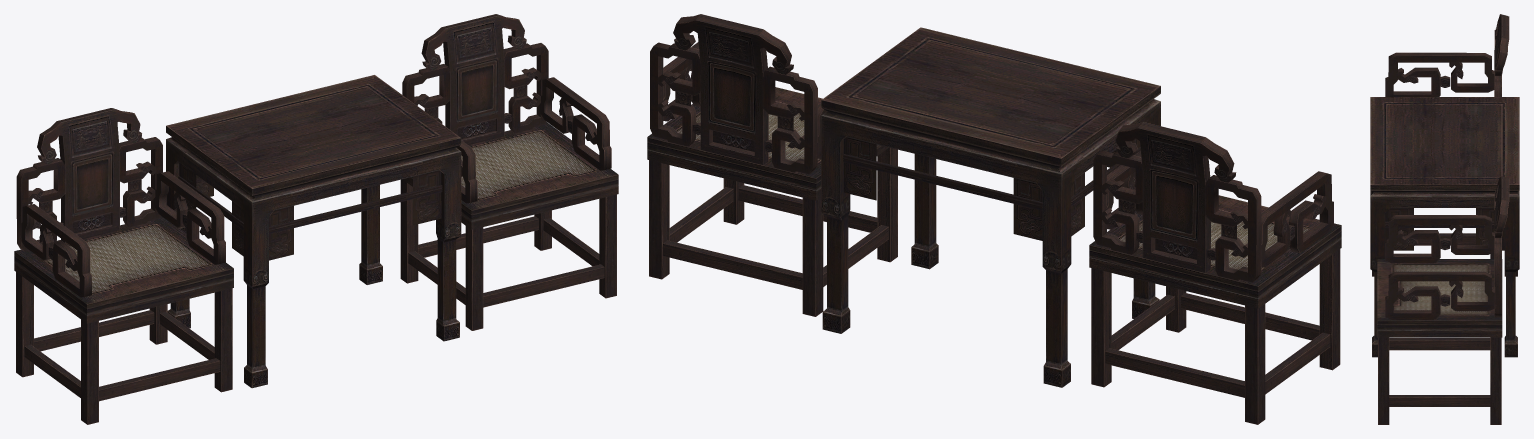
Rendered from Chair.fbx.
3 views of the same model, side by side, from view 1: azimuth 30°, elevation 25°; view 2: azimuth 150°, elevation 25°; view 3: azimuth 270°, elevation 25° (orthographic). The views are drawn at different scales.
Visible parts, largest first — view 1: zuo_yi_01; view 2: zuo_yi_01; view 3: zuo_yi_01.
Part boxes in pixels (x1,y1,x2,y2): zuo_yi_01: (14, 14, 618, 424); zuo_yi_01: (647, 14, 1341, 424); zuo_yi_01: (1370, 14, 1519, 424).
Bounding box in the file's own units: 78.43 × 33.74 × 22.11.
1 material, 1 textured.
